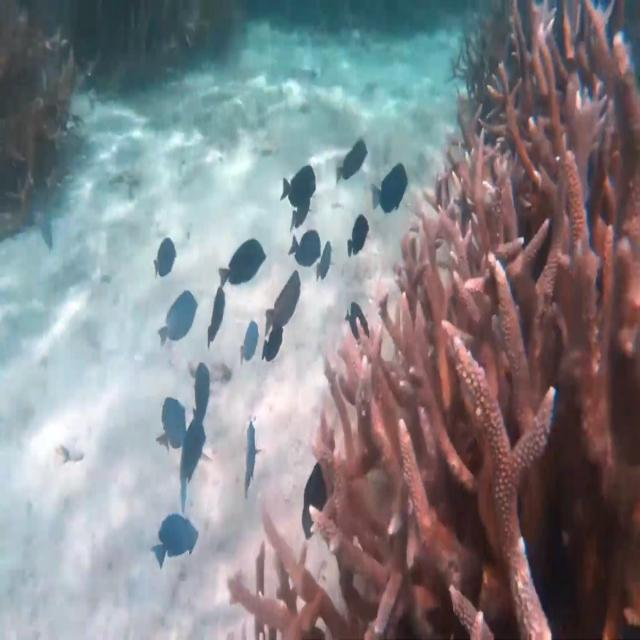Staghorn-Coral -Endangered-: (229, 3, 640, 637), (2, 4, 82, 228)
